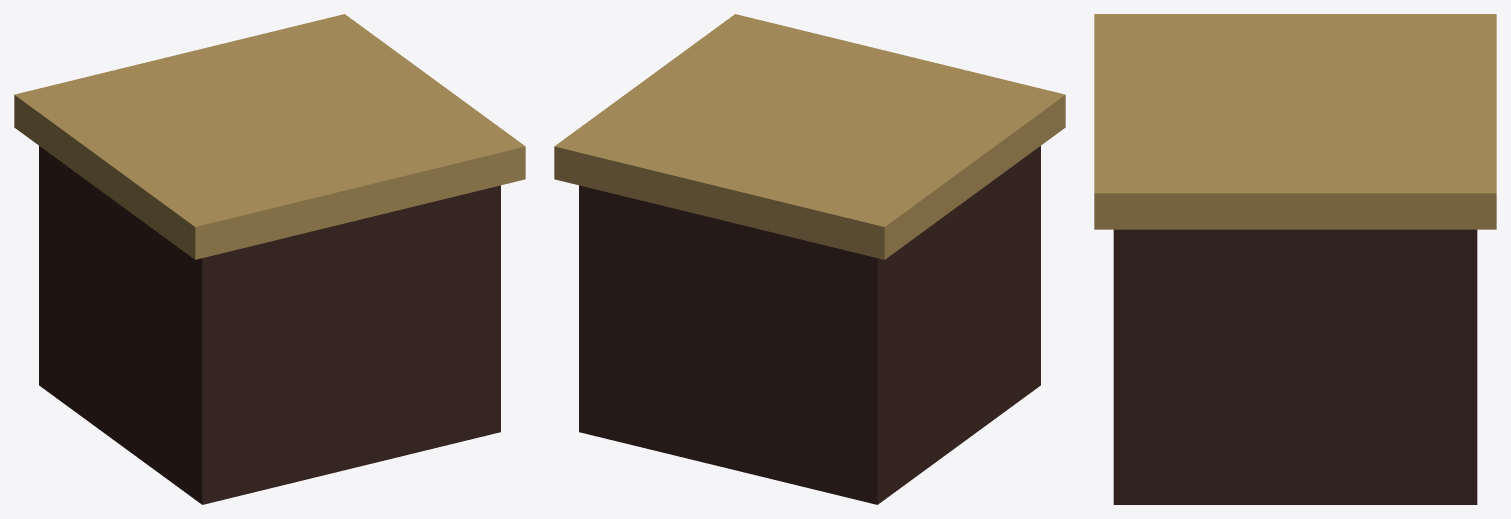
The model's file is estandeP.fbx.
3 renders of one model, left to right at view 1: azimuth 30°, elevation 25°; view 2: azimuth 150°, elevation 25°; view 3: azimuth 270°, elevation 25°, orthographic. The views are drawn at different scales.
Parts seen in each view (by area): view 1: Estande; view 2: Estande; view 3: Estande.
Part boxes in pixels (x1,y1,x2,y2): Estande: [14, 14, 525, 504]; Estande: [554, 14, 1065, 504]; Estande: [1094, 14, 1496, 504].
Bounding box in the file's own units: 120 × 100 × 114.
